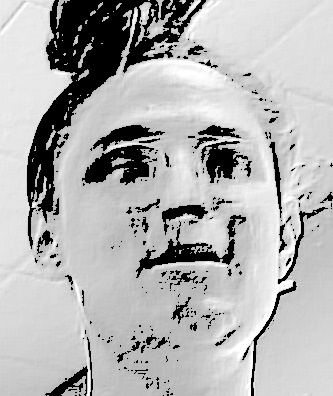nose_M_C: (155, 169, 214, 240)
